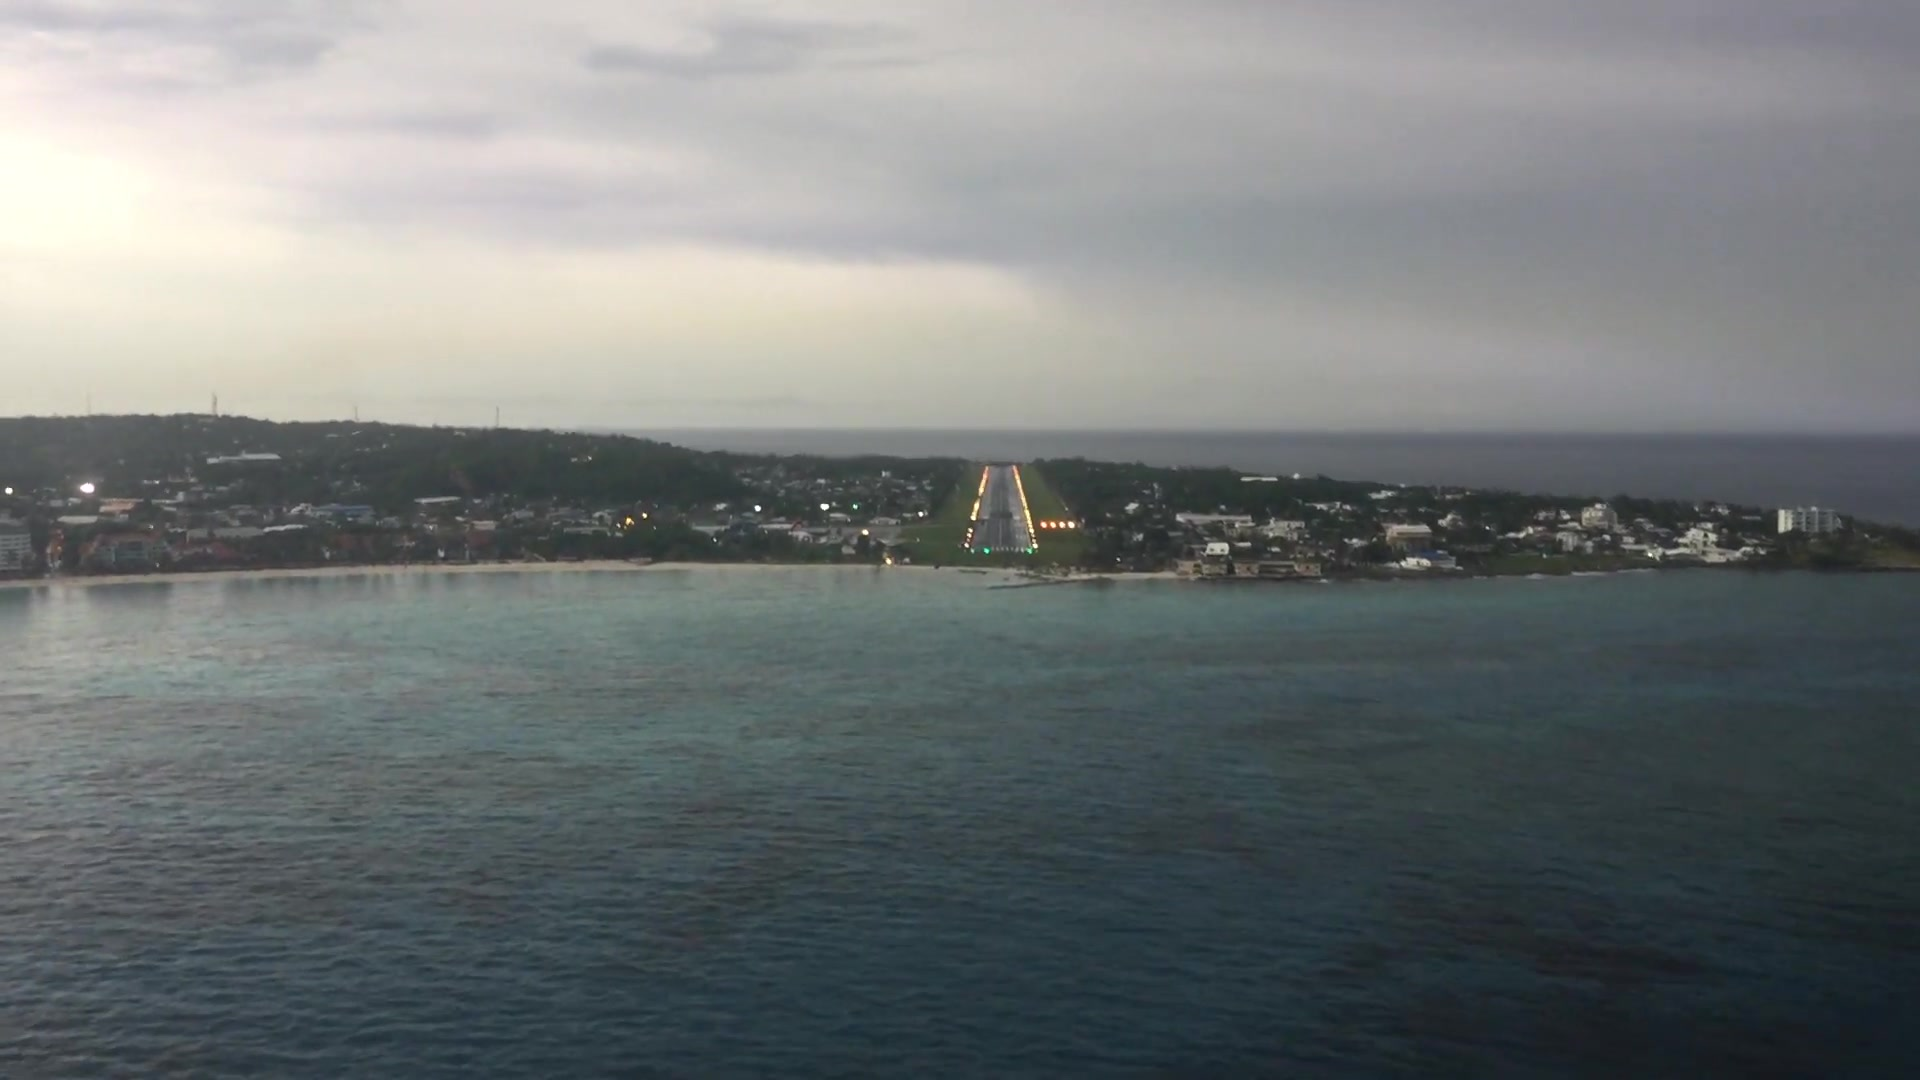runway: (963, 462, 1039, 556)
